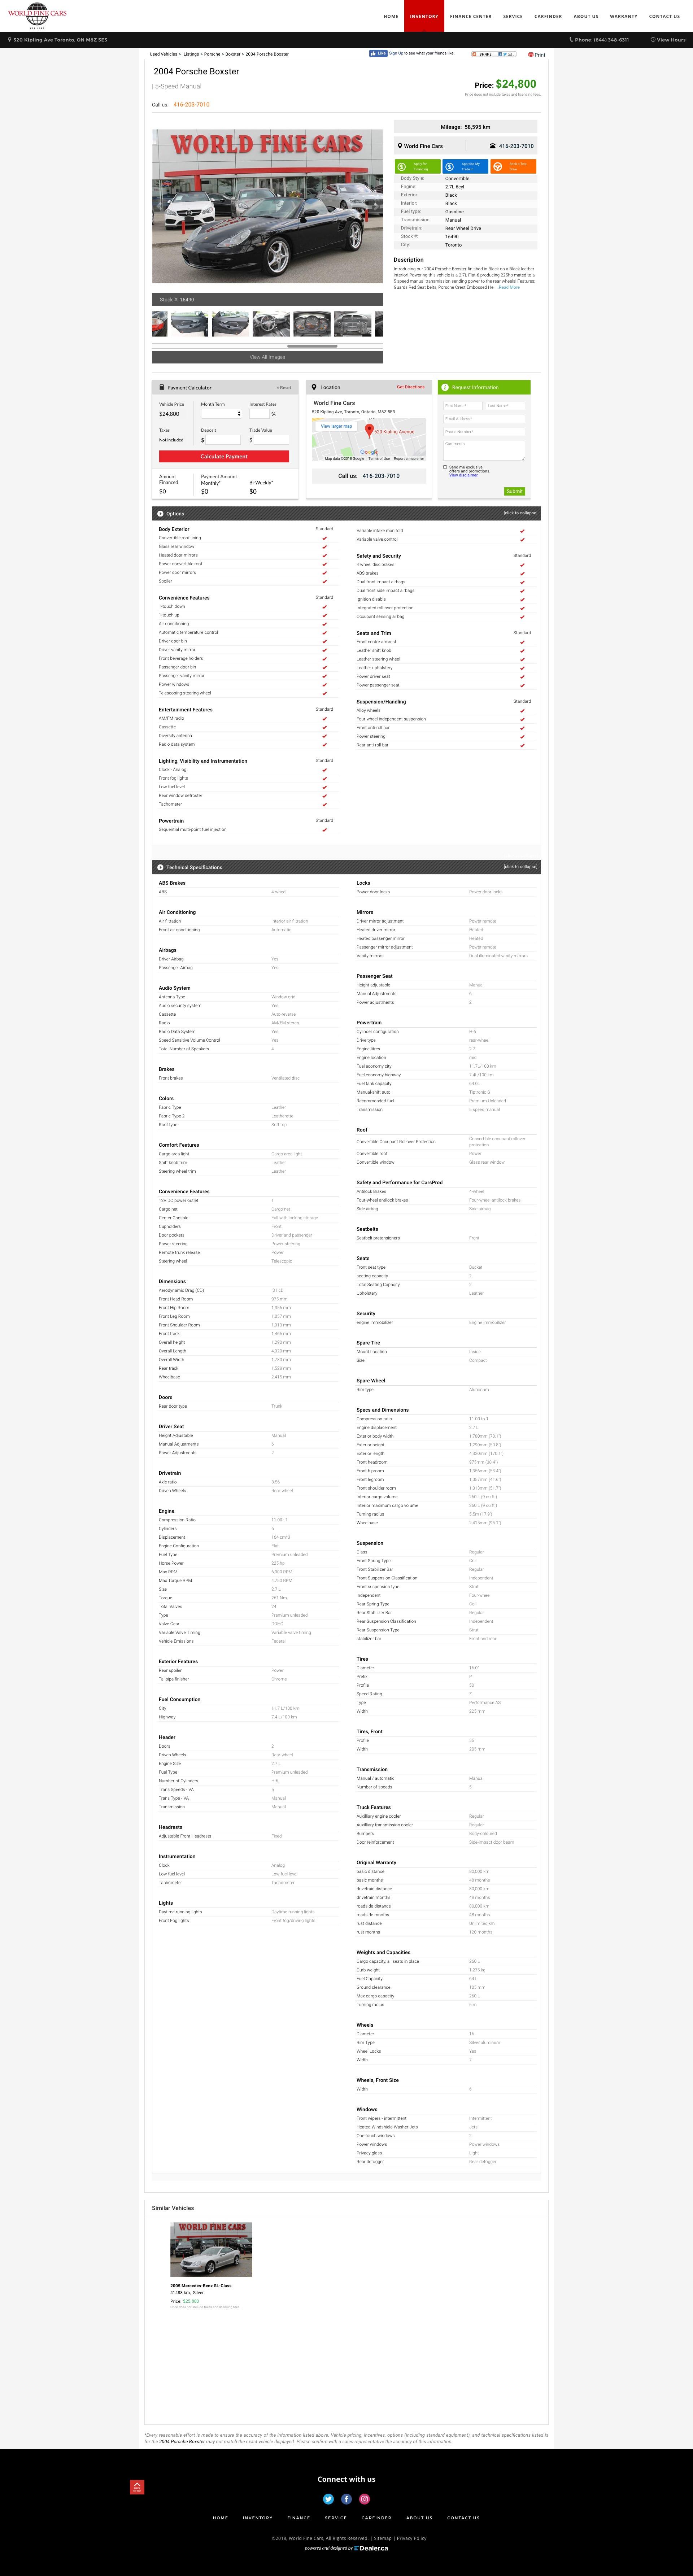car: (366, 199, 386, 215)
